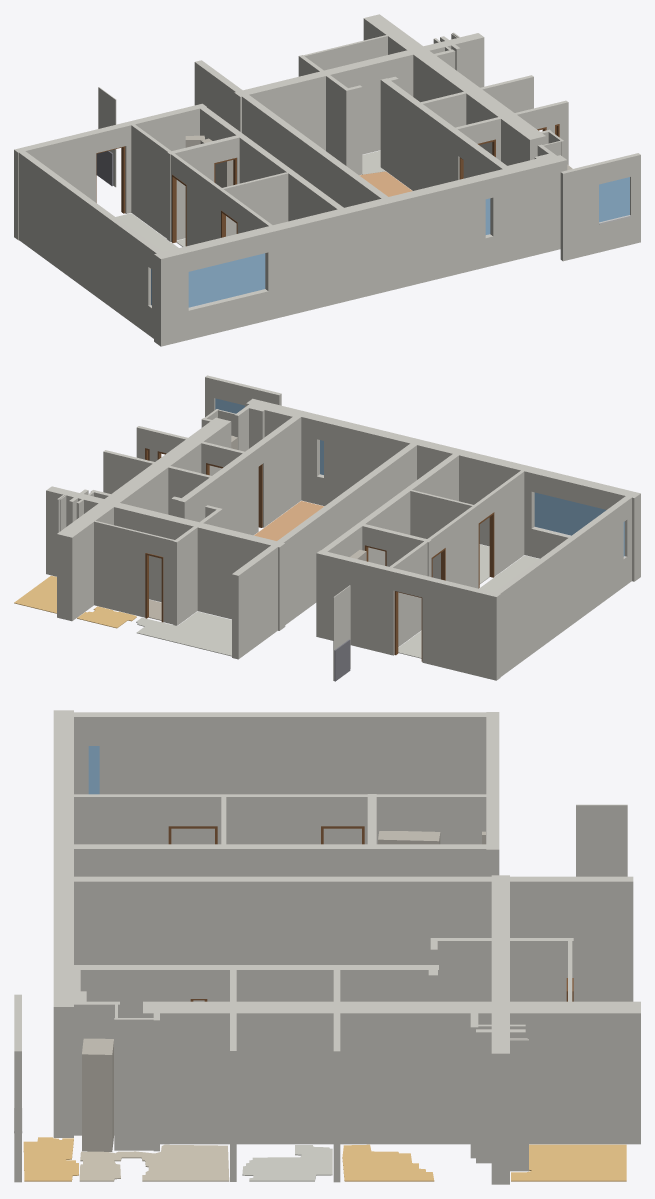
3 views of the same model, one above another, from view 1: azimuth 30°, elevation 25°; view 2: azimuth 150°, elevation 25°; view 3: azimuth 270°, elevation 25° (orthographic). The views are drawn at different scales.
Visible parts, largest first — view 1: walls, window_6, window_8, floor_4_Undefined, floor_1_Living_Room, railings, furniture_2_closet, door_1; view 2: walls, floor_15_Undefined, window_6, floor_4_Undefined, floor_1_Living_Room, floor_11_Kitchen, floor_10_Kitchen, railings, door_2, door_5, door_0; view 3: walls, floor_14_Entry, floor_11_Kitchen, furniture_5_closet, floor_12_Kitchen, floor_16_Undefined, floor_13_Kitchen, furniture_3_closet.
Boxes of the visible parts, left/top/right/bottom form: walls: left=14, top=14, right=640, bottom=346; window_6: left=188, top=253, right=265, bottom=307; window_8: left=599, top=177, right=629, bottom=222; floor_4_Undefined: left=116, top=213, right=178, bottom=251; floor_1_Living_Room: left=359, top=171, right=412, bottom=196; railings: left=96, top=151, right=113, bottom=186; furniture_2_closet: left=200, top=138, right=233, bottom=187; door_1: left=172, top=174, right=186, bottom=246; walls: left=46, top=375, right=640, bottom=680; floor_15_Undefined: left=136, top=611, right=231, bottom=656; window_6: left=534, top=492, right=606, bottom=535; floor_4_Undefined: left=398, top=555, right=539, bottom=658; floor_1_Living_Room: left=254, top=501, right=323, bottom=540; floor_11_Kitchen: left=14, top=575, right=56, bottom=613; floor_10_Kitchen: left=77, top=606, right=136, bottom=628; railings: left=334, top=639, right=350, bottom=681; door_2: left=478, top=512, right=494, bottom=588; door_5: left=145, top=553, right=163, bottom=622; door_0: left=394, top=591, right=422, bottom=661; walls: left=14, top=710, right=640, bottom=1184; floor_14_Entry: left=79, top=1144, right=229, bottom=1181; floor_11_Kitchen: left=511, top=1144, right=626, bottom=1181; furniture_5_closet: left=82, top=1038, right=113, bottom=1151; floor_12_Kitchen: left=342, top=1144, right=434, bottom=1181; floor_16_Undefined: left=242, top=1145, right=332, bottom=1181; floor_13_Kitchen: left=23, top=1137, right=78, bottom=1181; furniture_3_closet: left=378, top=831, right=440, bottom=844.
Bounding box in the file's own units: 15.17 × 2.72 × 11.71.
